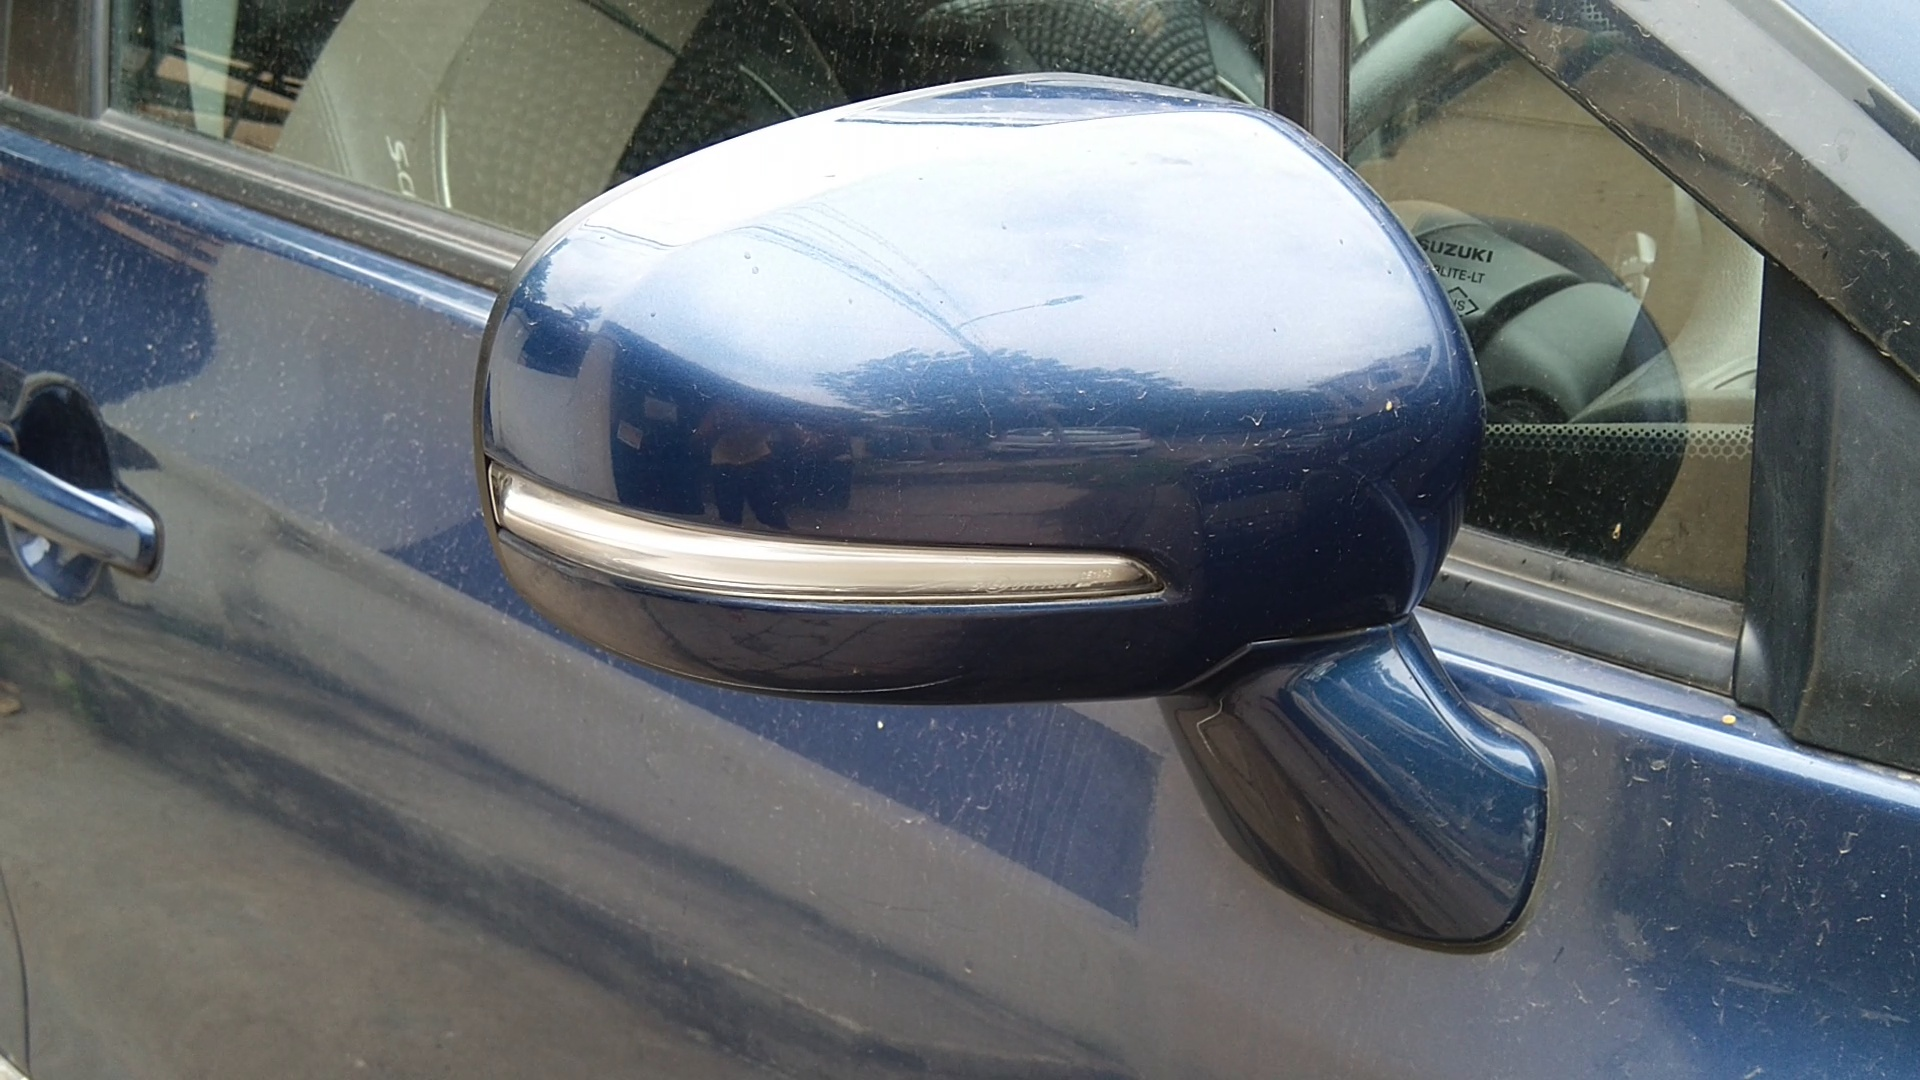ovr_mirror: (439, 51, 1601, 1021)
